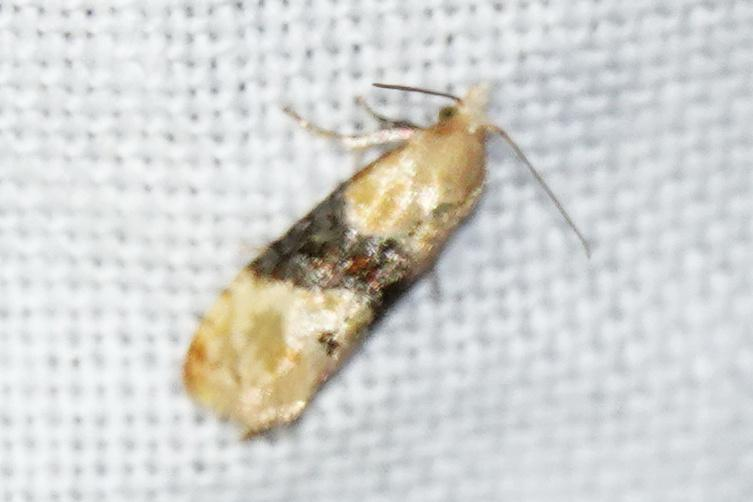Eupoecilia Ambiguella: (178, 76, 594, 442)
